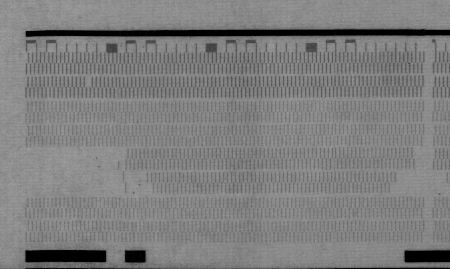Broken hole: (26, 145, 127, 200), (390, 171, 450, 197), (122, 168, 155, 199), (411, 147, 428, 172), (83, 75, 93, 87)
